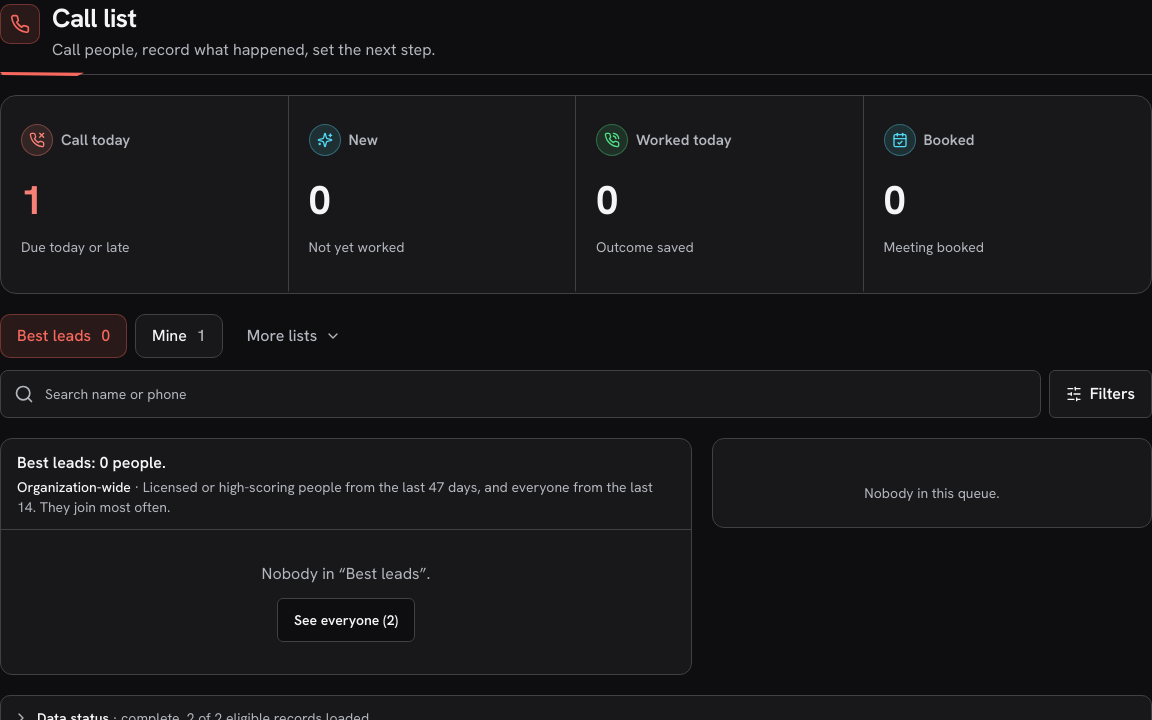
Test: RecruitingWorklist › shows full-dataset queue counts and keeps assigned-to-me distinct from org-wide
The width and height of the screenshot is (1152, 720).
Expected: the button "Mine 1" is shown, left=135, top=314, right=223, bottom=358
Expected: the button "Best leads 0" is shown, left=0, top=314, right=127, bottom=358
Click the button "More lists" at (294, 336), box left=231, top=314, right=357, bottom=358
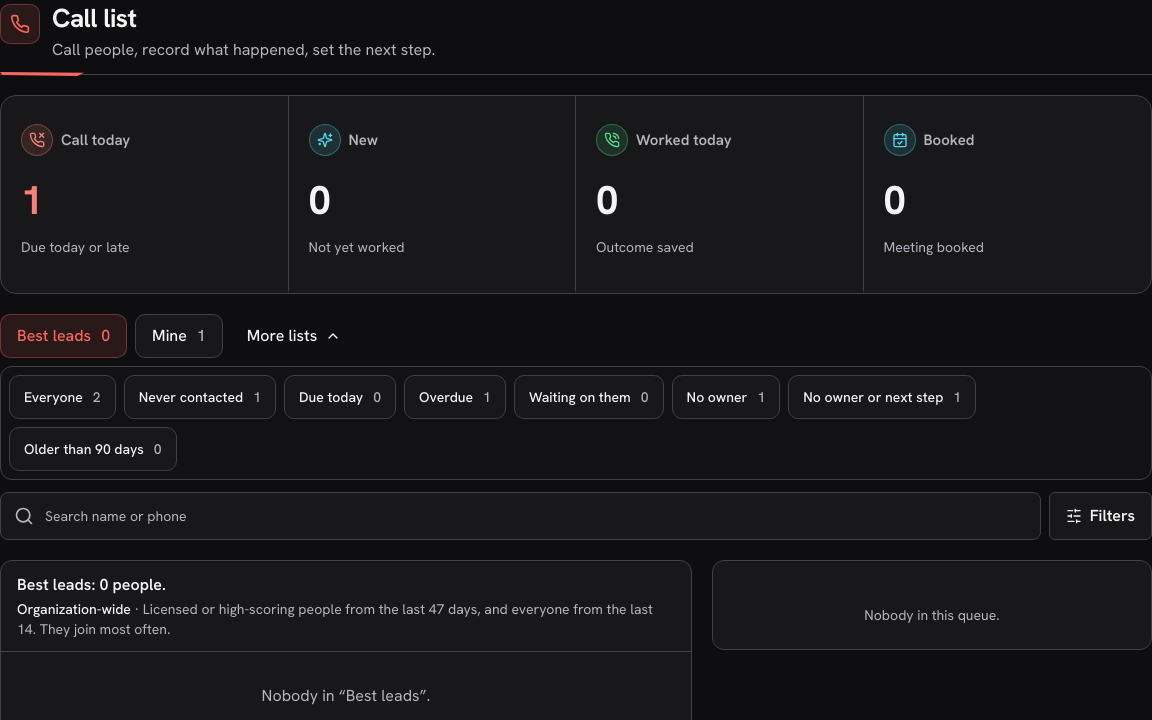
Expected: the button "More lists" is expanded, left=231, top=314, right=357, bottom=358
Expected: the button "Everyone 2" is shown, left=9, top=375, right=116, bottom=419
Expected: the button "Never contacted 1" is shown, left=124, top=375, right=276, bottom=419
Click the button "Call today 1 Due today or late" at (37, 140), box left=1, top=96, right=288, bottom=293
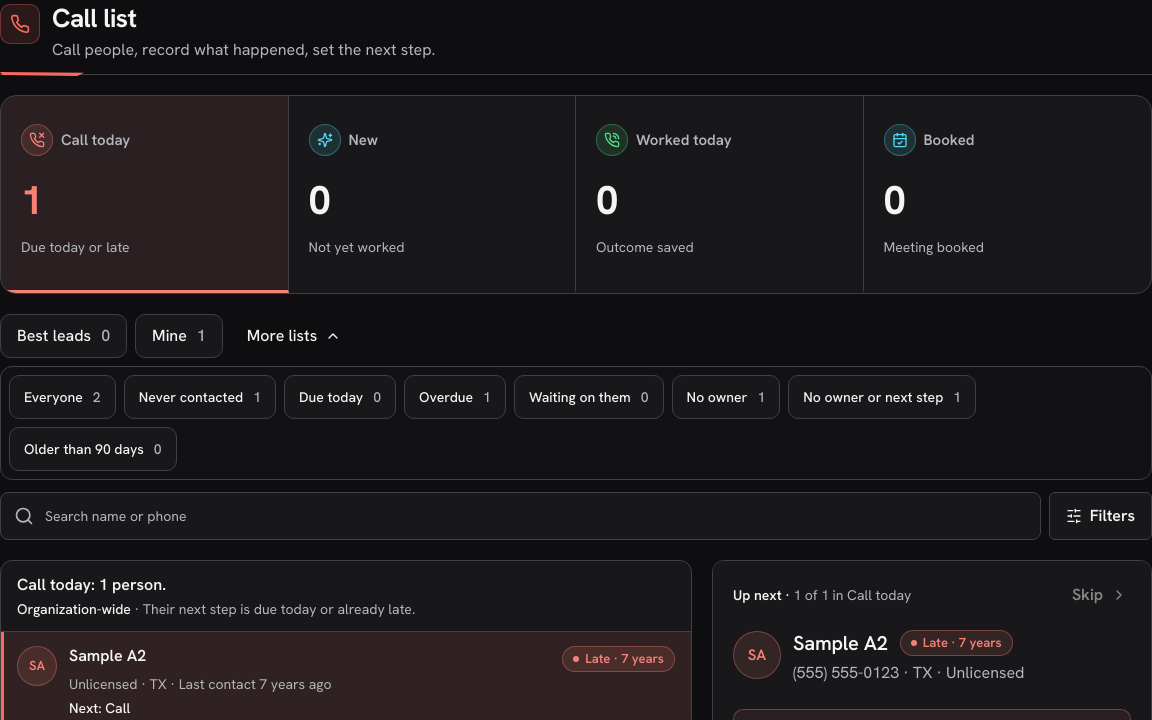
Expected: the text "Call today: 1 person." is shown, left=17, top=574, right=166, bottom=595
